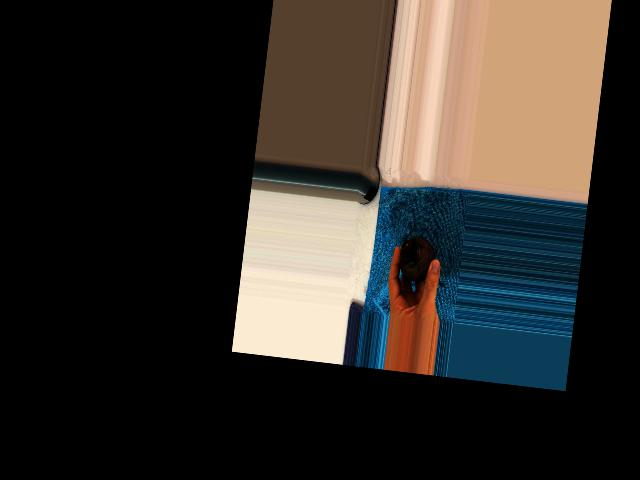beet: (397, 221, 453, 288)
